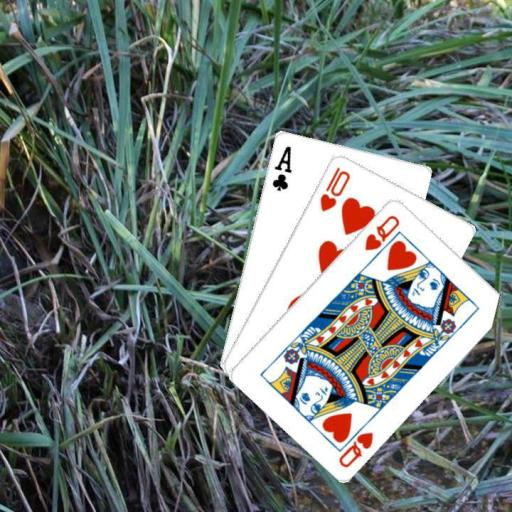10H: (316, 164, 352, 214)
AC: (268, 142, 293, 192)
QH: (335, 417, 376, 469), (361, 211, 401, 252)
